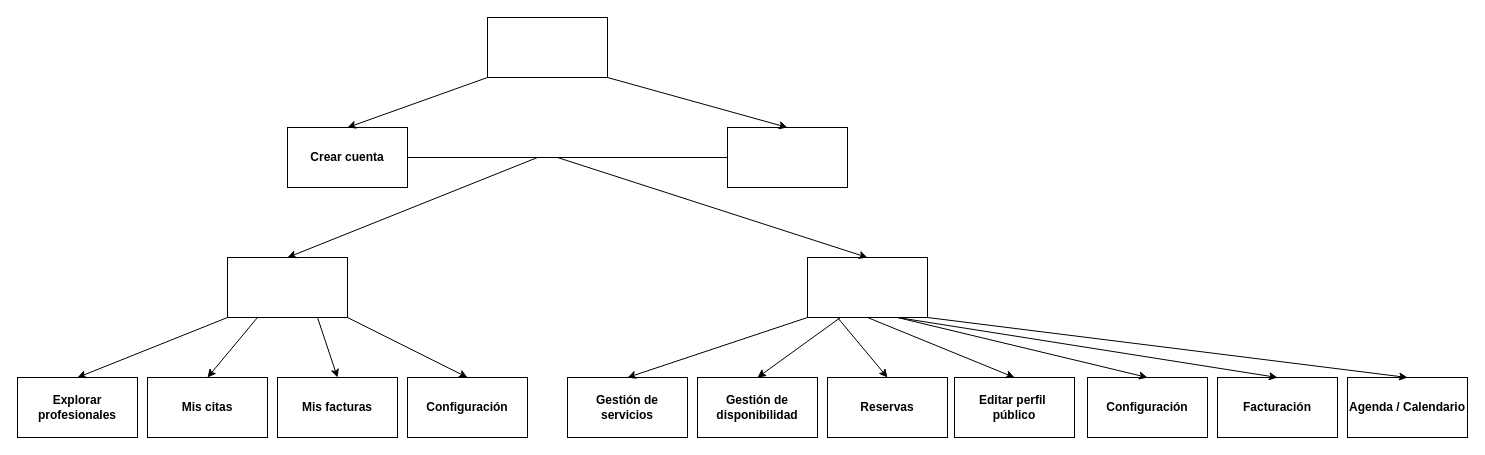
Some shapes in this 1485 by 455 pixel diagram are drawn without their labels. The shapes that lost their labels are listed below. From the top down, each one's centre as x and y in pixels, then its label:
pixel 547 47: Inicio
pixel 787 157: Iniciar sesión
pixel 287 287: Dashboard cliente
pixel 867 287: Dashboard profesional
